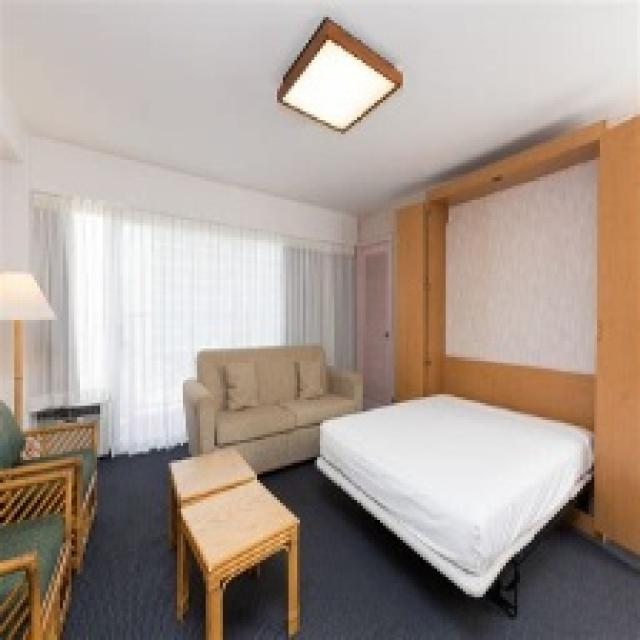Bed: (314, 392, 594, 617)
